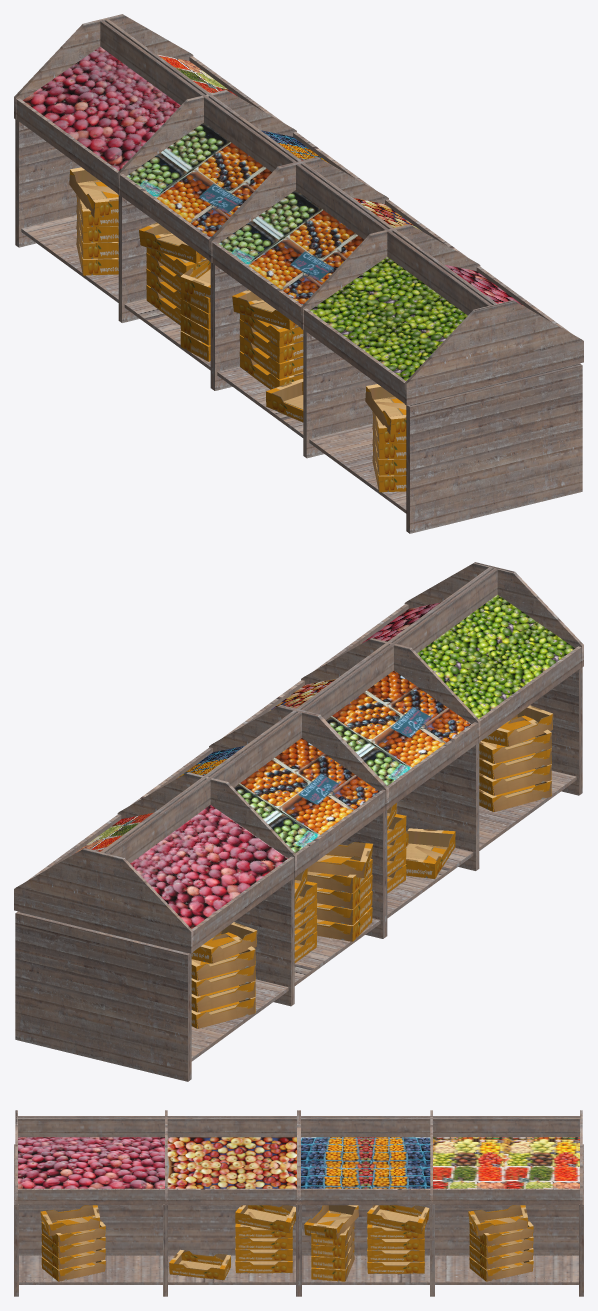
The model's file is SM_Counter_Fruit_01.FBX.
3 renders of one model, top to bottom at view 1: azimuth 30°, elevation 25°; view 2: azimuth 150°, elevation 25°; view 3: azimuth 270°, elevation 25°, orthographic. The views are drawn at different scales.
Parts seen in each view (by area): view 1: SM_Counter_Fruit_01; view 2: SM_Counter_Fruit_01; view 3: SM_Counter_Fruit_01.
Boxes of the visible parts, box(x1,y1,x2,y2) form: SM_Counter_Fruit_01: box(14, 14, 583, 533); SM_Counter_Fruit_01: box(14, 562, 583, 1081); SM_Counter_Fruit_01: box(14, 1110, 583, 1296).
Bounding box in the file's own units: 111 × 119 × 413.
